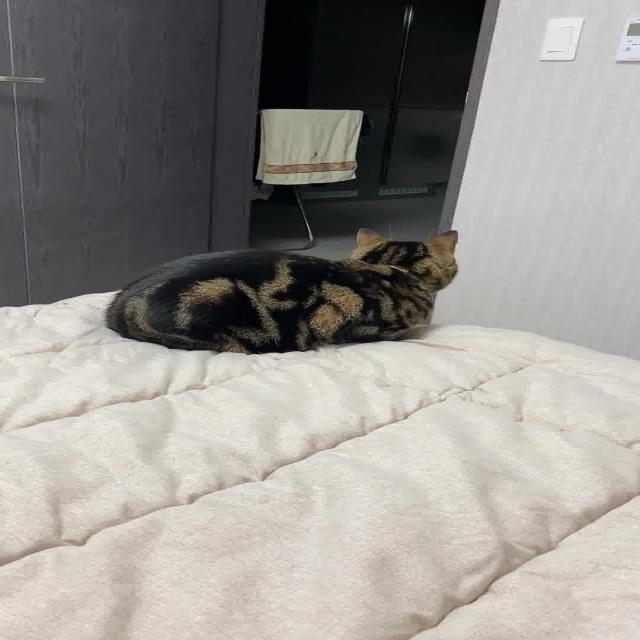cat: (107, 222, 472, 356)
